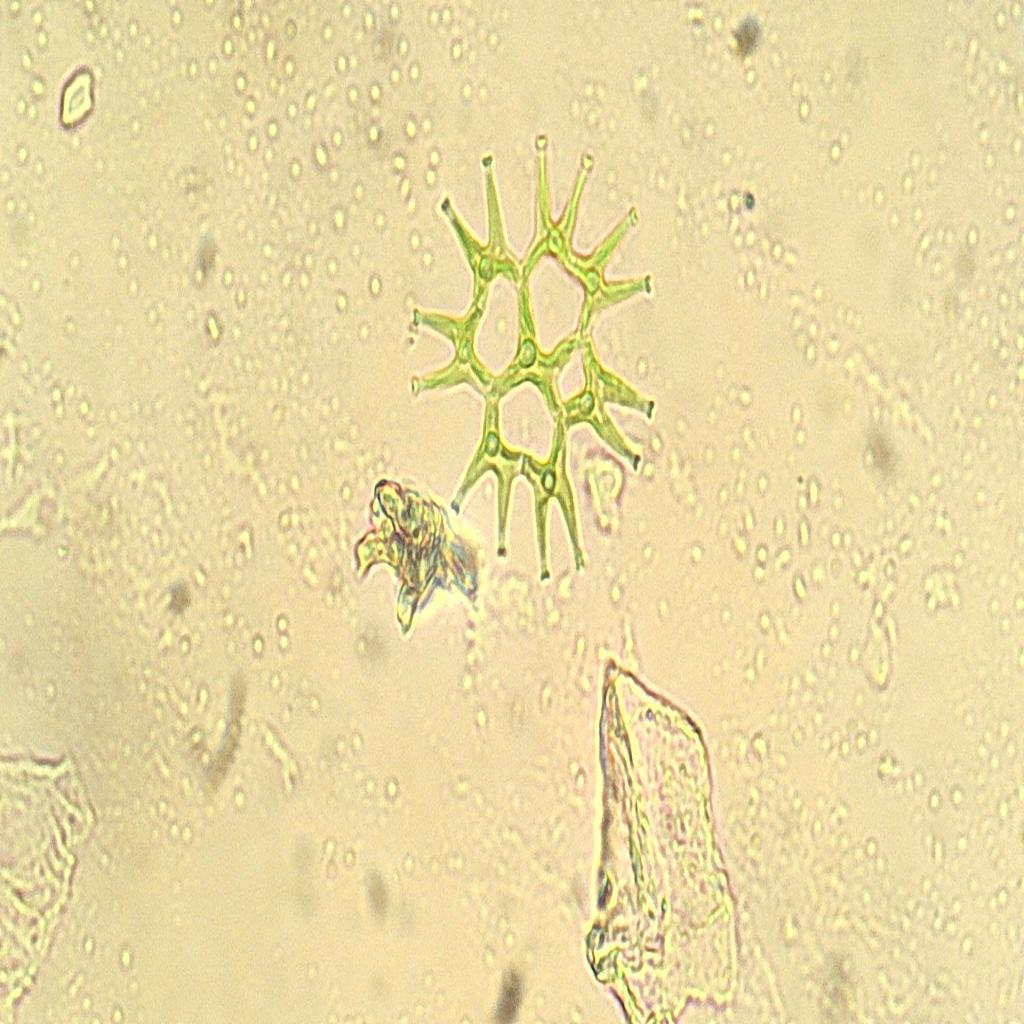Pediastrum_75T: (397, 90, 678, 619)
